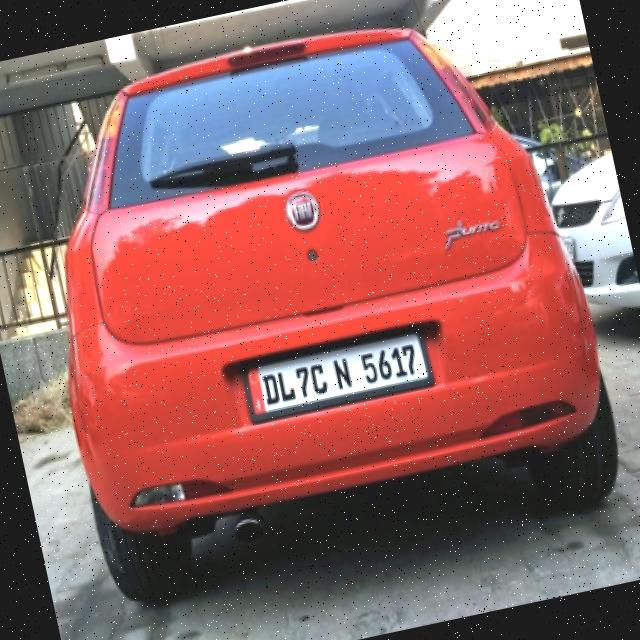Autre: (234, 322, 440, 422)
